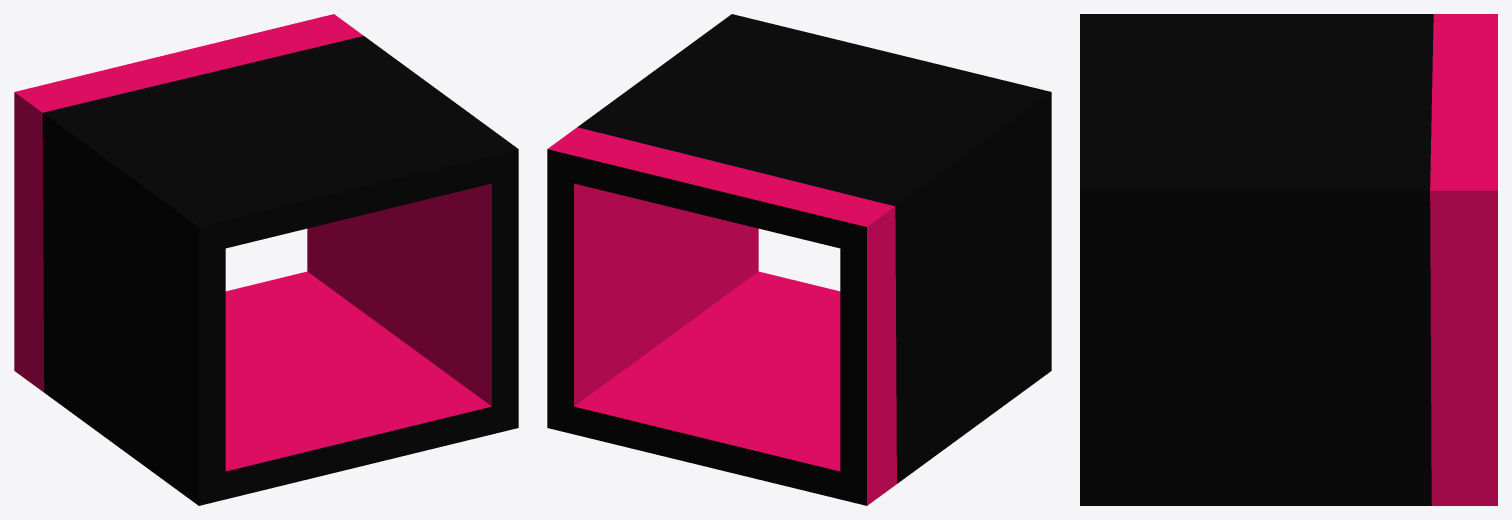
Rendered from Portal.fbx.
The picture shows the model from 3 angles, left to right: view 1: azimuth 30°, elevation 25°; view 2: azimuth 150°, elevation 25°; view 3: azimuth 270°, elevation 25°; orthographic projection. The views are drawn at different scales.
Parts seen in each view (by area): view 1: Box001; view 2: Box001; view 3: Box001.
Boxes of the visible parts, x1,y1,x2,y2 form: Box001: (14, 14, 518, 505); Box001: (547, 14, 1051, 505); Box001: (1080, 14, 1497, 505).
Bounding box in the file's own units: 0.762 × 0.635 × 0.762.
